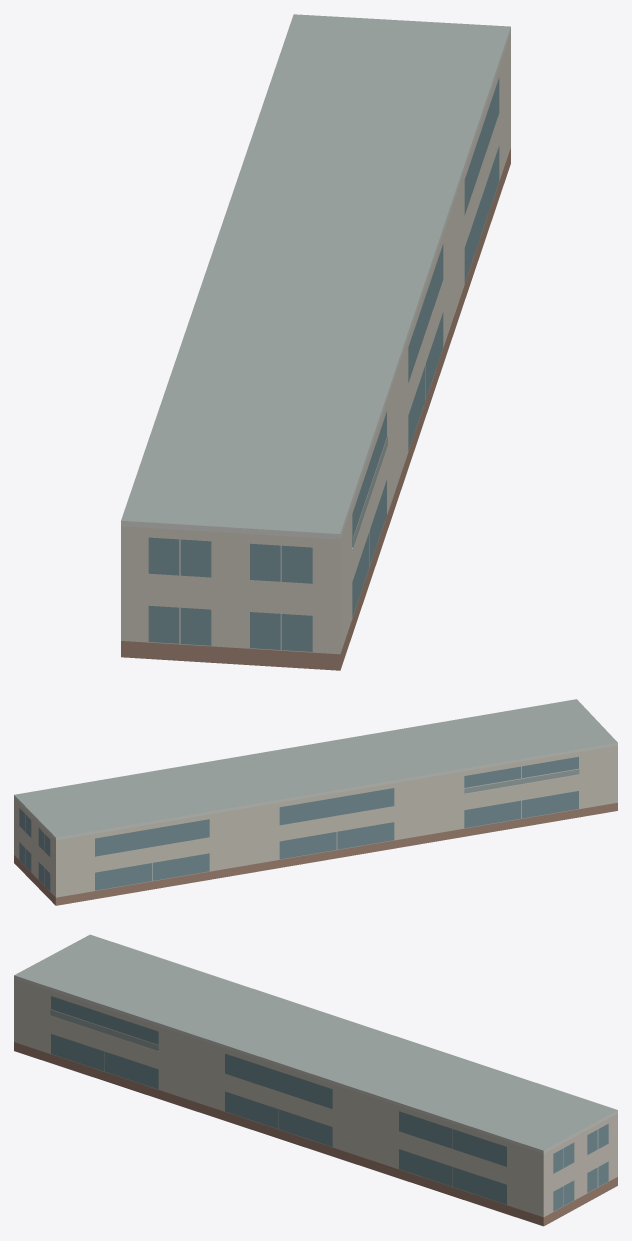
File: survey-upis-32732280.glb
The picture shows the model from 3 angles, top to bottom: view 1: azimuth 30°, elevation 25°; view 2: azimuth 150°, elevation 25°; view 3: azimuth 270°, elevation 25°; orthographic projection. The views are drawn at different scales.
Parts seen in each view (by area): view 1: survey-upis-32732280.tmp; view 2: survey-upis-32732280.tmp; view 3: survey-upis-32732280.tmp.
Part boxes in pixels (box(x1,y1,x2,y2)): survey-upis-32732280.tmp: box(121, 14, 510, 670); survey-upis-32732280.tmp: box(14, 699, 617, 905); survey-upis-32732280.tmp: box(14, 934, 617, 1226).
Size of the model in its own units: 37.37 by 6.1 by 44.1.
